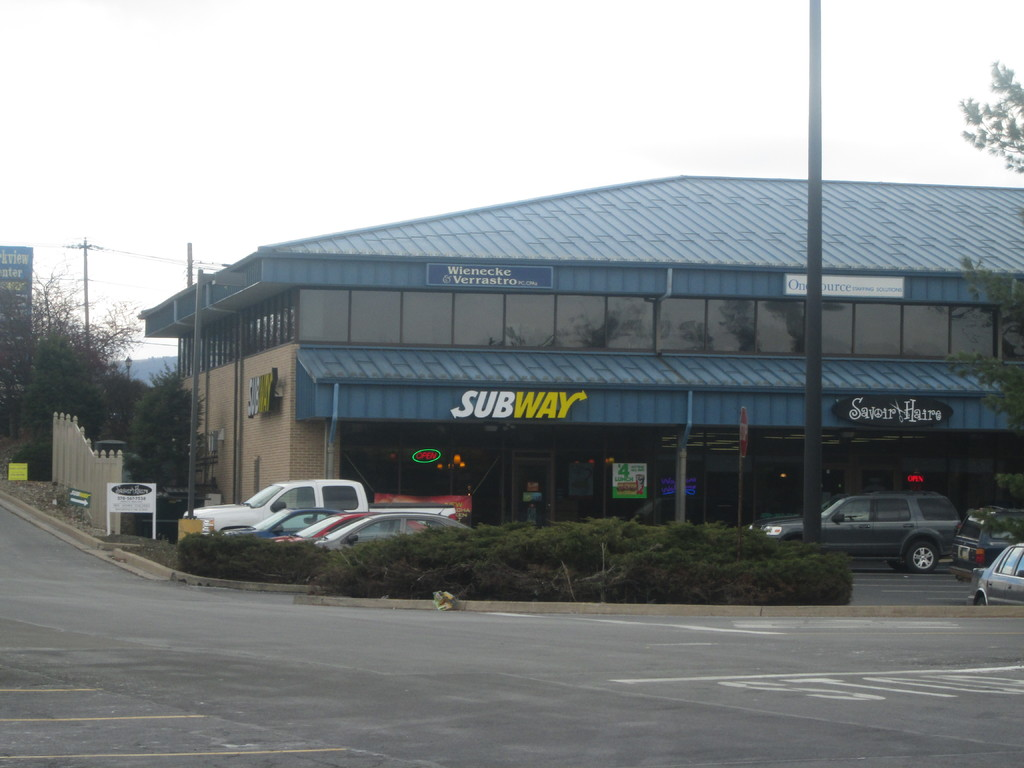Car: (746, 487, 958, 566), (231, 489, 348, 543), (318, 509, 472, 547), (955, 503, 1023, 577), (273, 504, 380, 547), (971, 538, 1023, 613)
